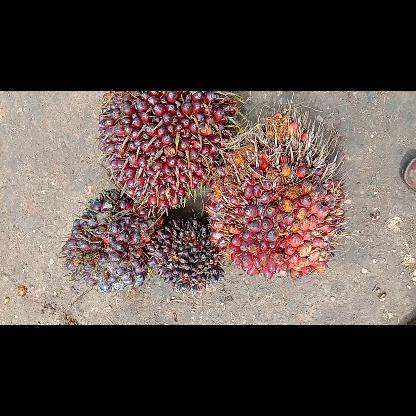Kurang masak: (95, 92, 240, 210), (58, 186, 155, 296)
TBS abnormal: (150, 214, 226, 291)
TBS masak: (204, 112, 346, 280)
